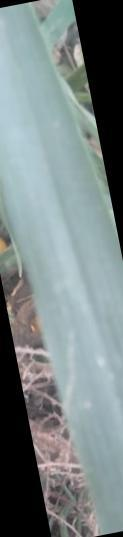Wheat: (87, 311, 123, 522), (0, 18, 41, 155), (40, 232, 117, 299), (16, 170, 99, 223)
